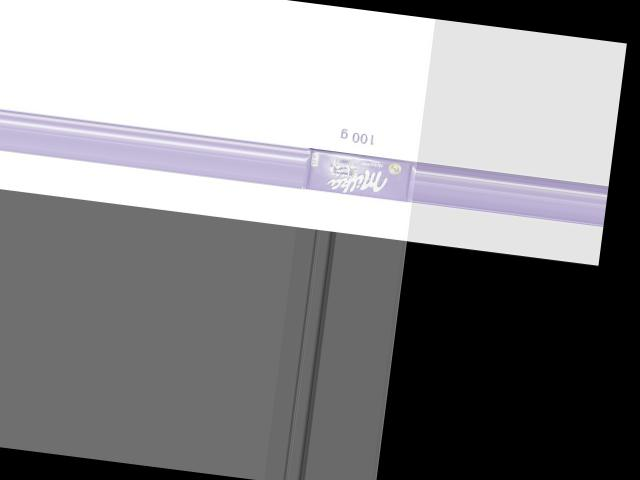chocolate: (300, 139, 415, 203)
